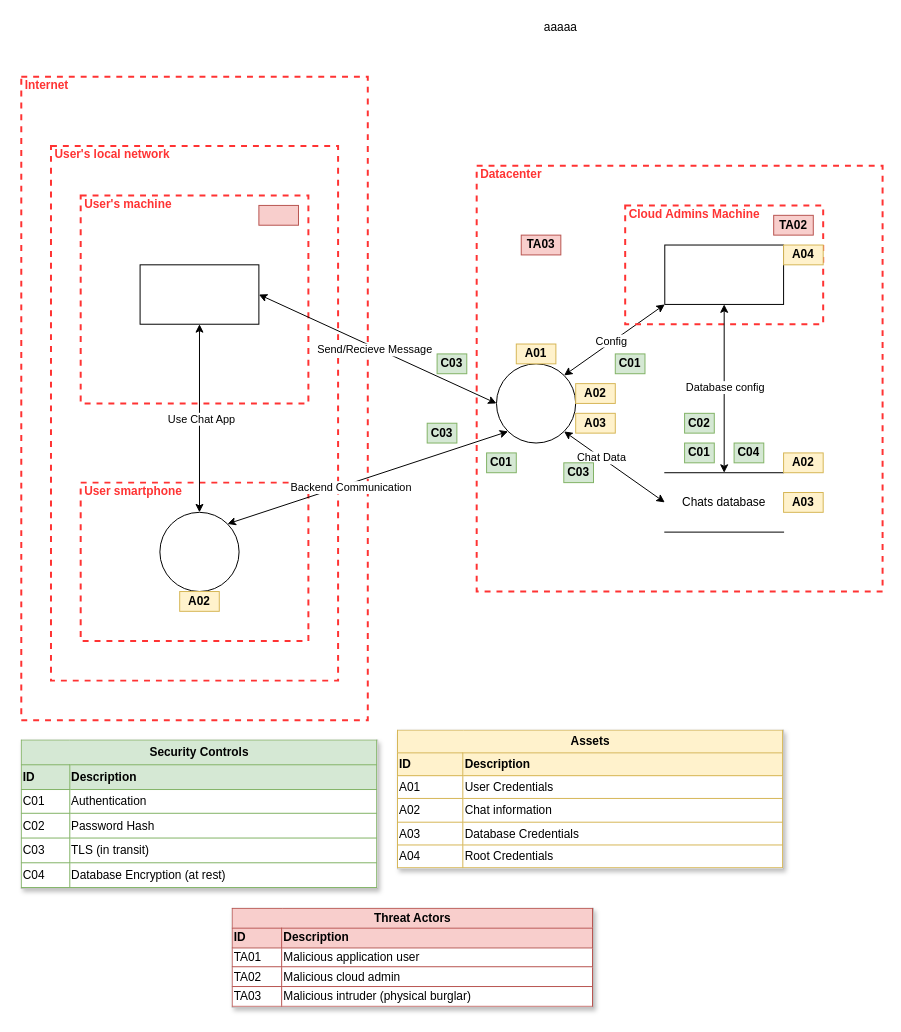
This 901x1032 diagram has some shape labels left out. Each missing label, with the centre of its shape:
"Application" belongs at [199,551].
"Application User" belongs at [199,294].
"Cloud Admin" belongs at [724,274].
"Cloud Server" belongs at [535,403].
"TA01" belongs at [278,214].
